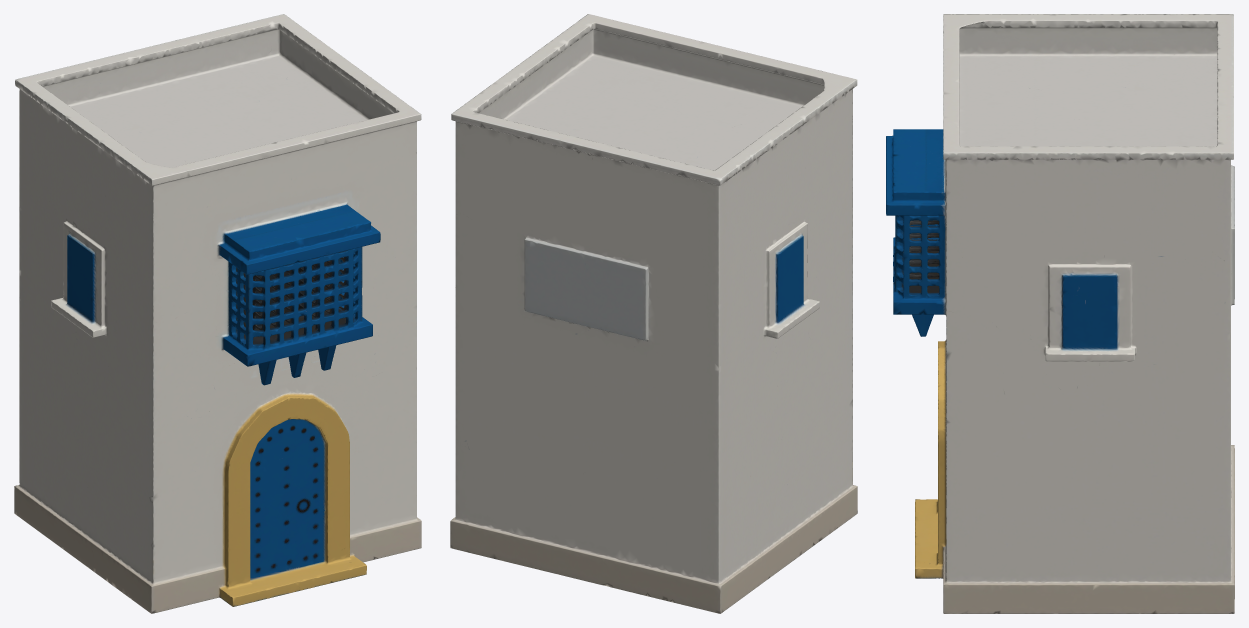
File: Meshy_AI_Blue_Medina_Tower_20261027_texture.fbx
The picture shows the model from 3 angles, left to right: view 1: azimuth 30°, elevation 25°; view 2: azimuth 150°, elevation 25°; view 3: azimuth 270°, elevation 25°; orthographic projection. The views are drawn at different scales.
Parts seen in each view (by area): view 1: Mesh_0; view 2: Mesh_0; view 3: Mesh_0.
Boxes of the visible parts, <box> form: Mesh_0: <box>14,14,421,613</box>; Mesh_0: <box>450,14,857,613</box>; Mesh_0: <box>886,14,1234,613</box>.
Bounding box in the file's own units: 133 × 190 × 130.
Materials: 1 (1 with a texture image).
